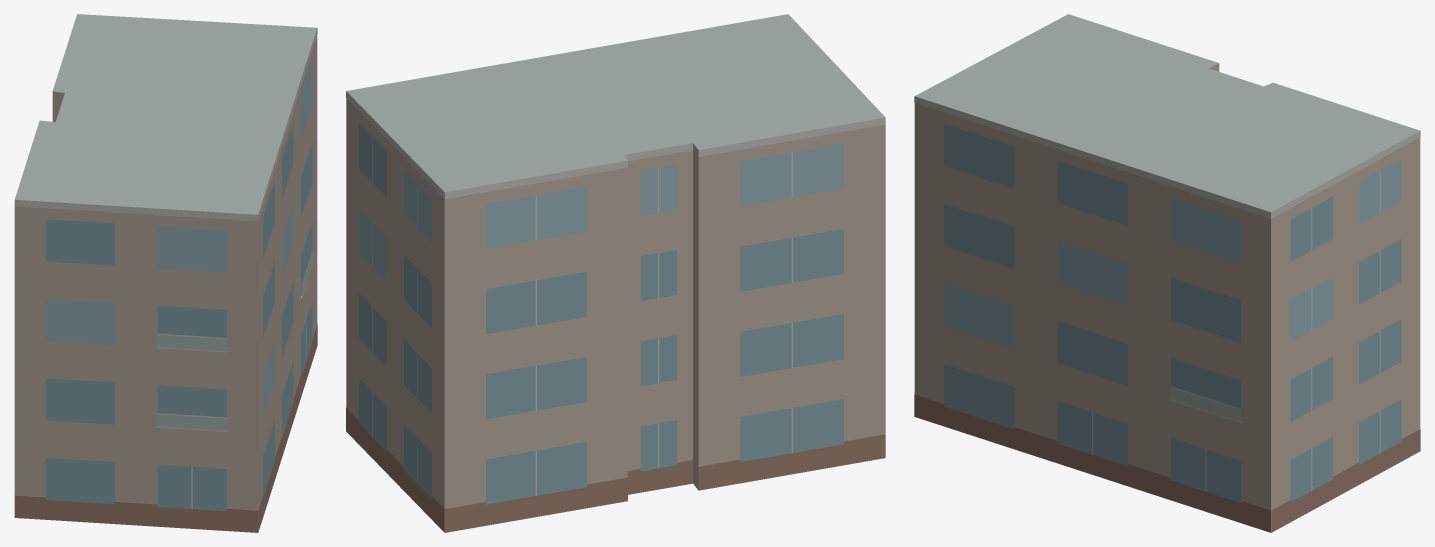
Rendered from survey-upis-32791354.glb.
The picture shows the model from 3 angles, left to right: view 1: azimuth 30°, elevation 25°; view 2: azimuth 150°, elevation 25°; view 3: azimuth 270°, elevation 25°; orthographic projection. The views are drawn at different scales.
Parts seen in each view (by area): view 1: survey-upis-32791354.tmp; view 2: survey-upis-32791354.tmp; view 3: survey-upis-32791354.tmp.
Boxes of the visible parts, x1,y1,x2,y2 form: survey-upis-32791354.tmp: [14, 14, 317, 532]; survey-upis-32791354.tmp: [346, 14, 885, 532]; survey-upis-32791354.tmp: [914, 14, 1420, 532].
Bounding box in the file's own units: 15.96 × 12.02 × 17.2.
